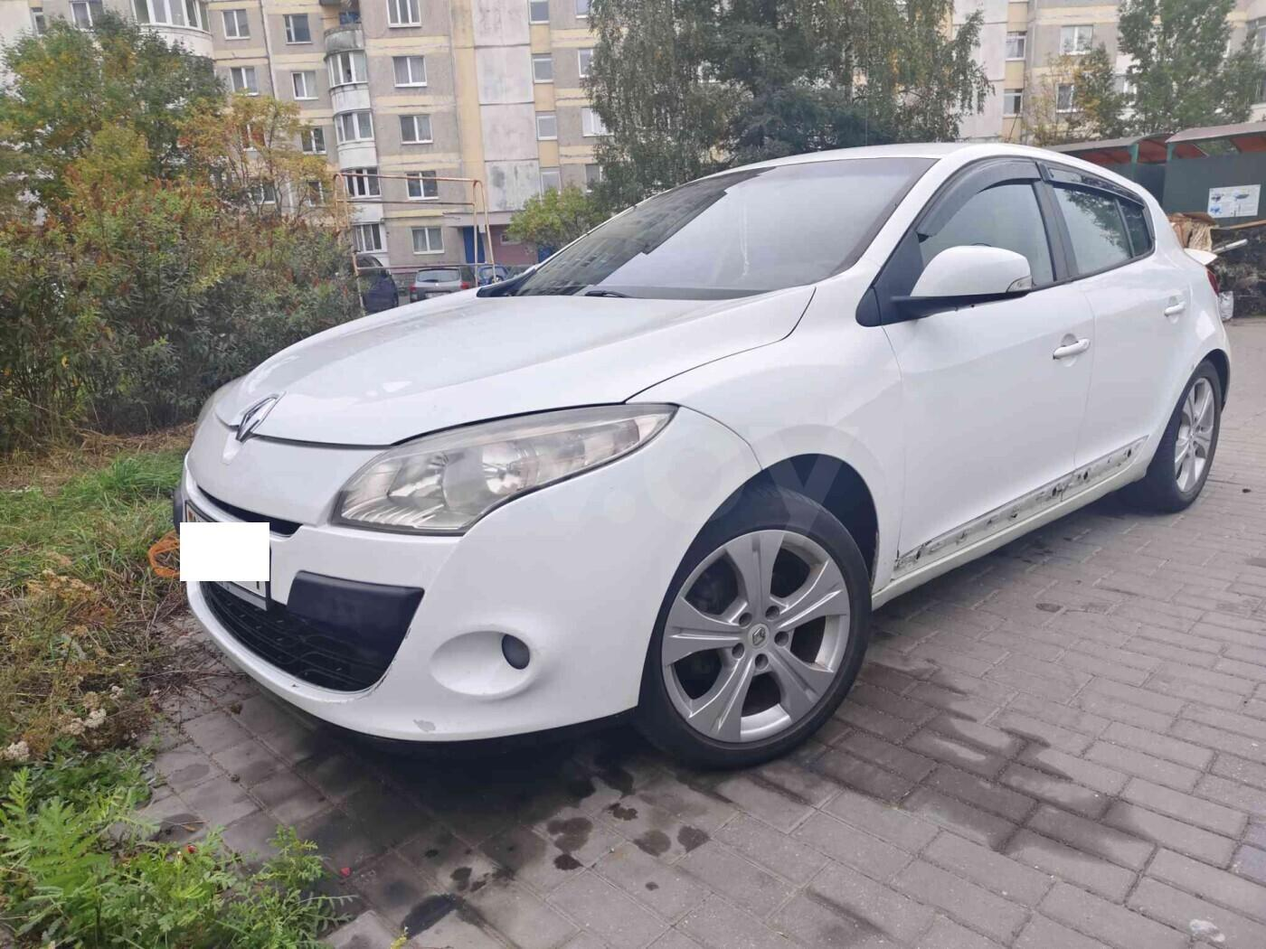Megane_2008-2014: (161, 143, 1236, 770)
